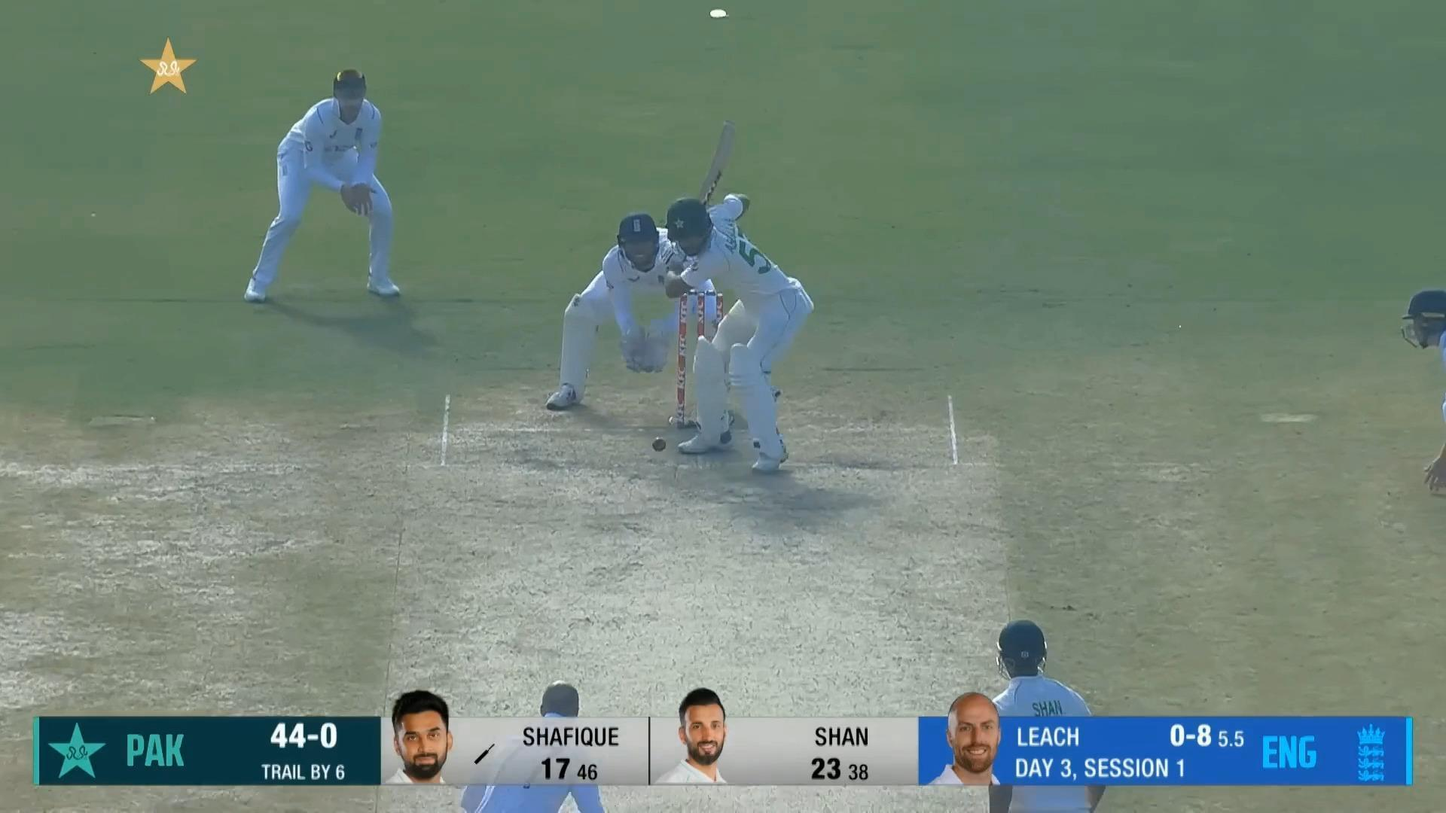BM 1: (660, 116, 815, 475)
BO: (456, 678, 609, 813)
